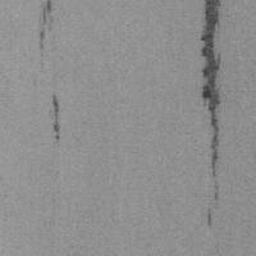Inclusion: (200, 0, 223, 212), (37, 0, 55, 51), (51, 93, 61, 141), (206, 210, 212, 227)
